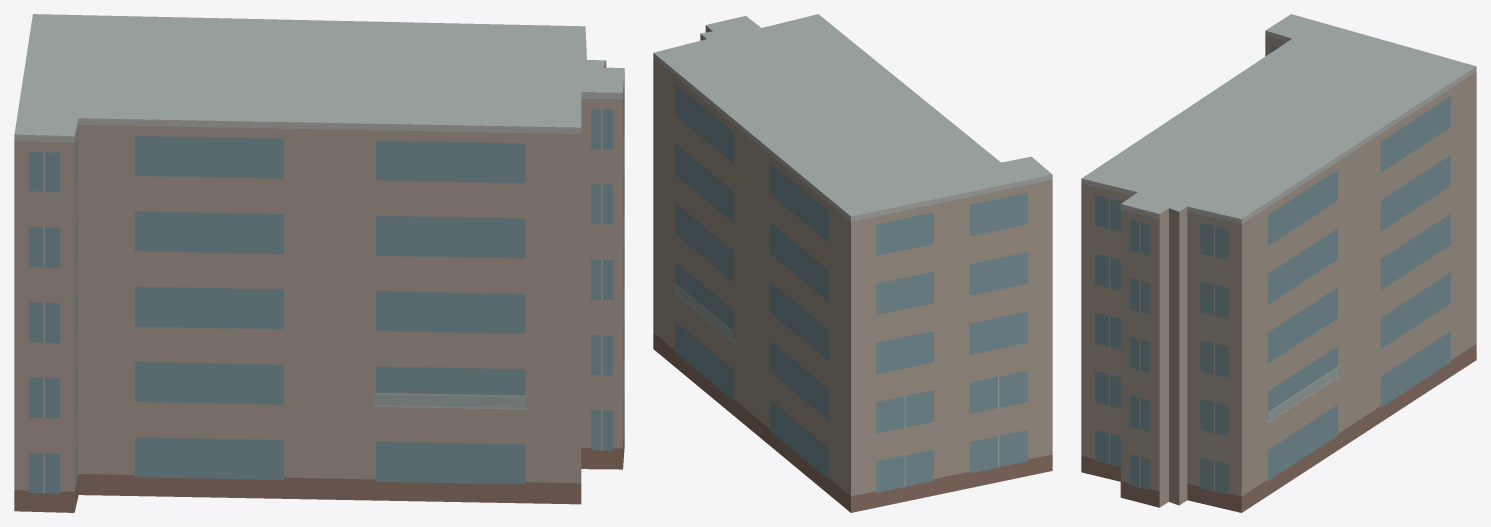
The model's file is survey-upis-32688167.glb.
The picture shows the model from 3 angles, left to right: view 1: azimuth 30°, elevation 25°; view 2: azimuth 150°, elevation 25°; view 3: azimuth 270°, elevation 25°; orthographic projection. The views are drawn at different scales.
Parts seen in each view (by area): view 1: survey-upis-32688167.tmp; view 2: survey-upis-32688167.tmp; view 3: survey-upis-32688167.tmp.
Part boxes in pixels (bbox=[...]): survey-upis-32688167.tmp: bbox=[14, 14, 624, 512]; survey-upis-32688167.tmp: bbox=[653, 14, 1052, 512]; survey-upis-32688167.tmp: bbox=[1081, 14, 1476, 512].
Bounding box in the file's own units: 21.14 × 14.1 × 17.21.
